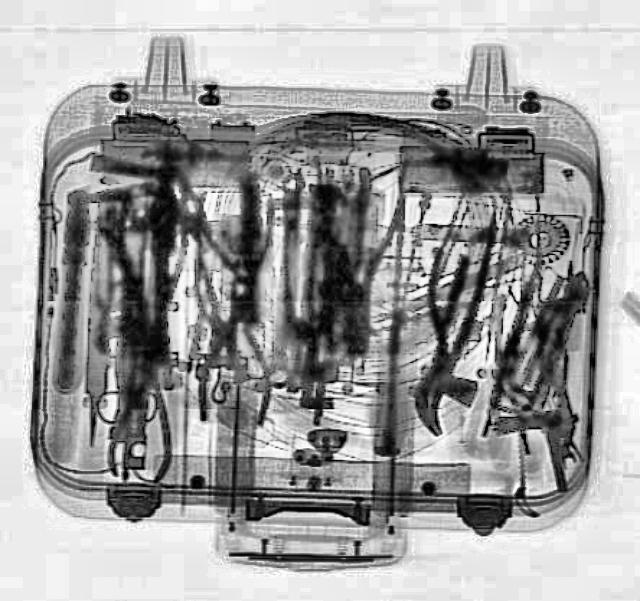Pliers: (196, 279, 274, 425)
